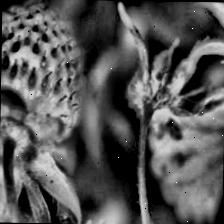Gray Mold: (114, 1, 224, 144)
